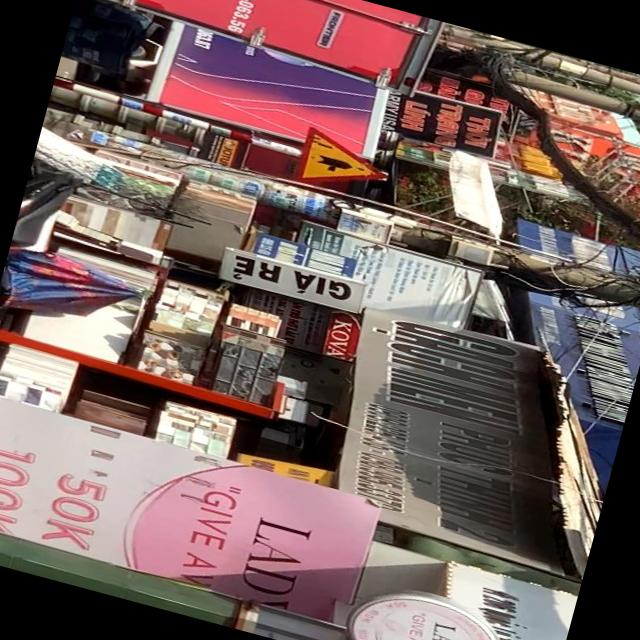W-207b: (291, 126, 396, 204)
